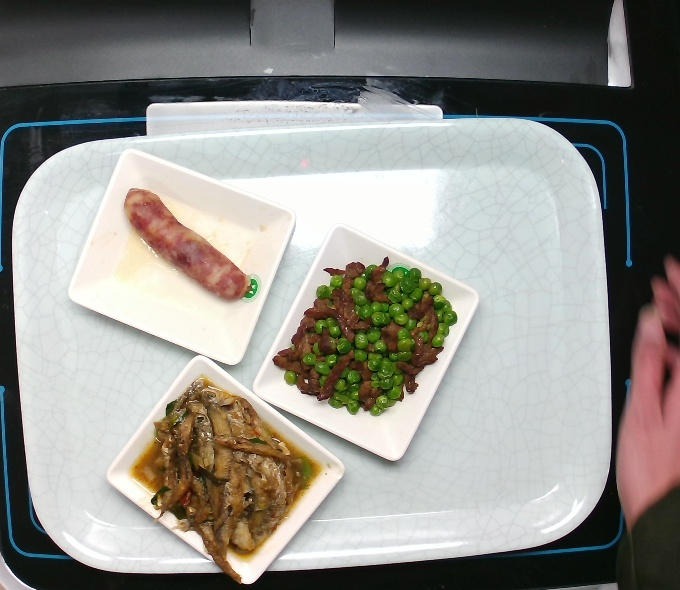wcq-CanDouNiuRou: (278, 266, 453, 419)
wcq-XiangChang: (119, 179, 261, 300)
wcq-XiaoJiYu: (143, 375, 301, 561)
